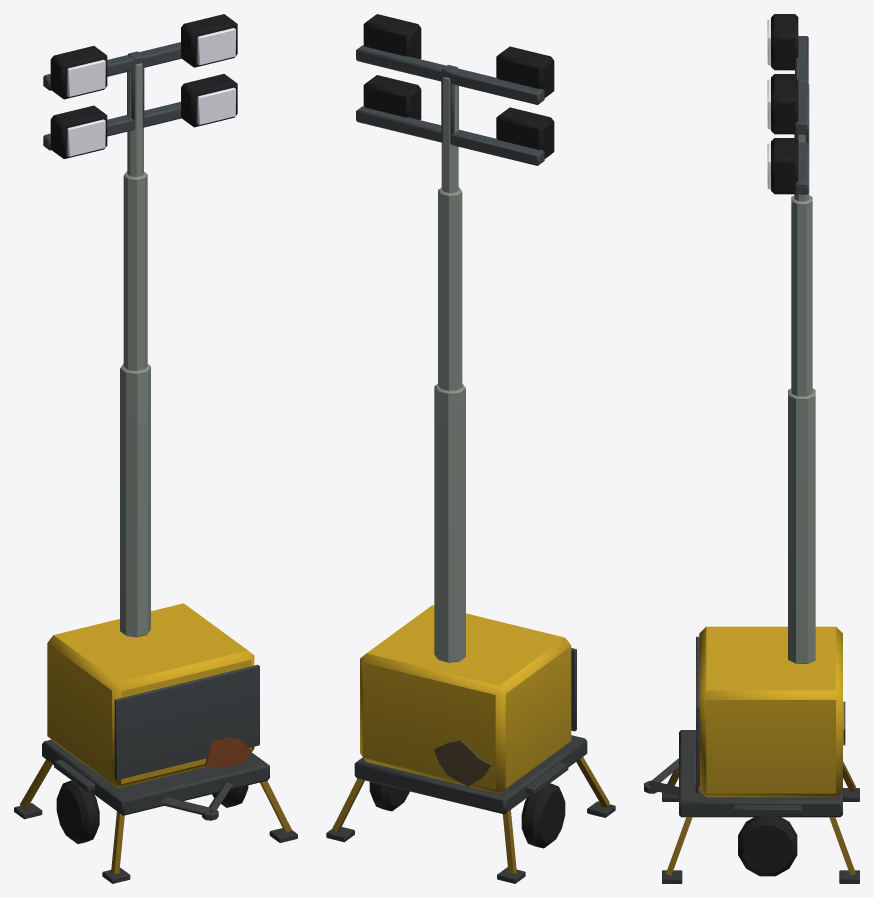
File: 44_tour_eclairage.fbx
3 views of the same model, side by side, from view 1: azimuth 30°, elevation 25°; view 2: azimuth 150°, elevation 25°; view 3: azimuth 270°, elevation 25° (orthographic). The views are drawn at different scales.
Parts seen in each view (by area): view 1: Remorque, Mat, Boitiers, Projecteurs; view 2: Remorque, Mat, Boitiers; view 3: Remorque, Mat, Boitiers, Projecteurs.
Part boxes in pixels (box(x1,y1,x2,y2)): Remorque: box(14, 603, 297, 883); Mat: box(43, 42, 181, 637); Boitiers: box(50, 14, 237, 158); Projecteurs: box(67, 28, 235, 156); Remorque: box(326, 605, 615, 883); Mat: box(356, 45, 544, 662); Boitiers: box(363, 14, 554, 158); Remorque: box(644, 626, 859, 883); Mat: box(788, 36, 815, 663); Boitiers: box(771, 14, 798, 194); Projecteurs: box(767, 19, 770, 189).
Bounding box in the file's own units: 0.84 × 3.36 × 0.84.
1 material, 1 textured.
